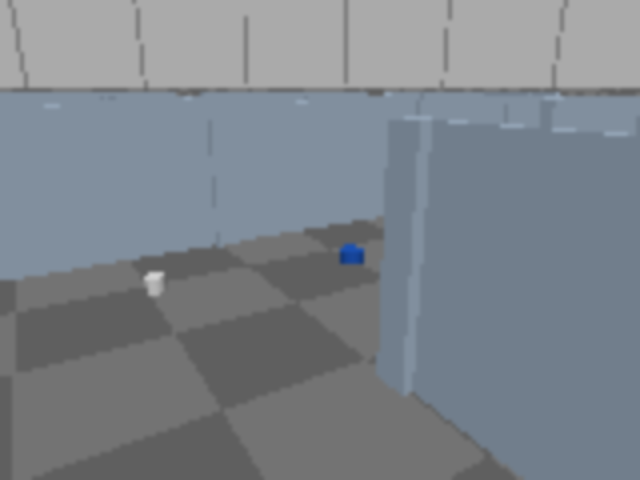puck: (145, 273, 167, 295), (343, 246, 360, 264)
